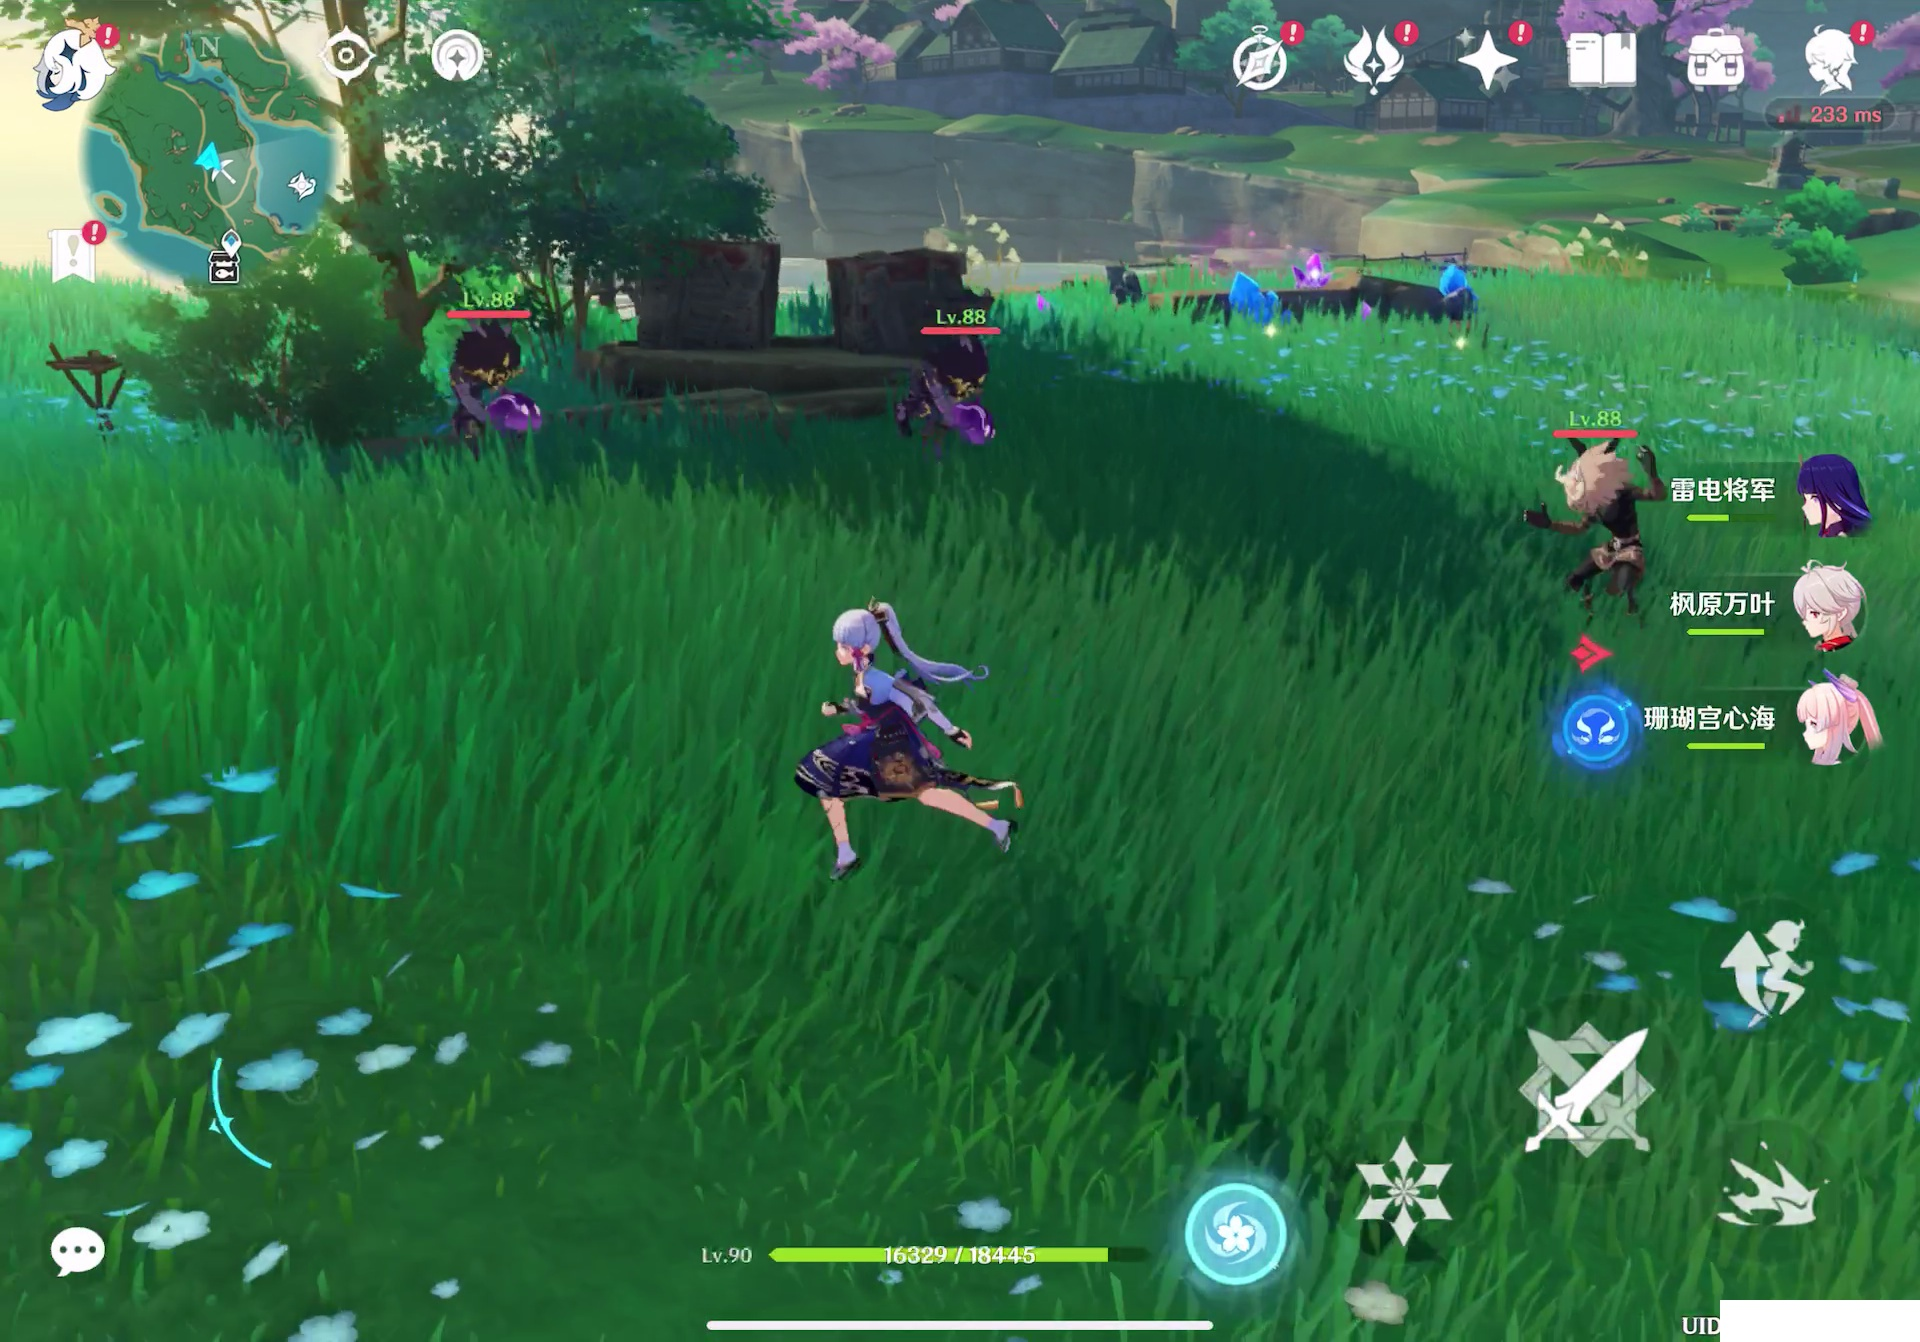丘丘人: (1526, 455, 1657, 608), (894, 335, 1013, 462), (449, 322, 550, 445)
神里绫龟: (802, 602, 1037, 852)
